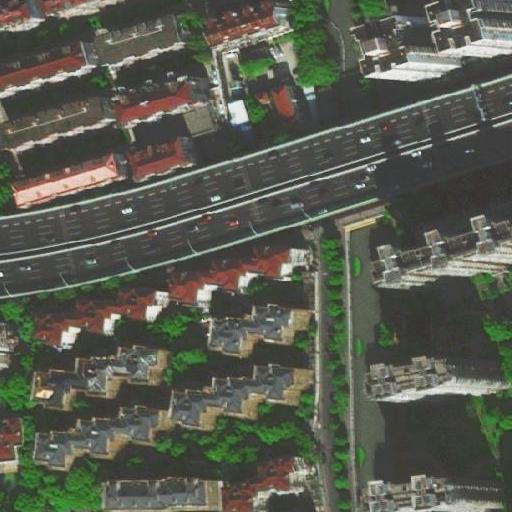building: (150, 243, 303, 310), (39, 396, 170, 466), (36, 343, 164, 402), (380, 239, 512, 296), (179, 361, 302, 420), (360, 13, 465, 82), (34, 289, 161, 342), (15, 150, 132, 204), (374, 356, 506, 403), (1, 42, 98, 98), (93, 16, 191, 70), (2, 96, 109, 145), (116, 76, 209, 130), (425, 2, 511, 59), (226, 461, 311, 512), (409, 468, 512, 510), (210, 305, 302, 352), (204, 2, 289, 50), (103, 478, 220, 511), (130, 137, 198, 183), (272, 85, 305, 122), (0, 324, 22, 372), (226, 98, 251, 133), (0, 415, 14, 461)
